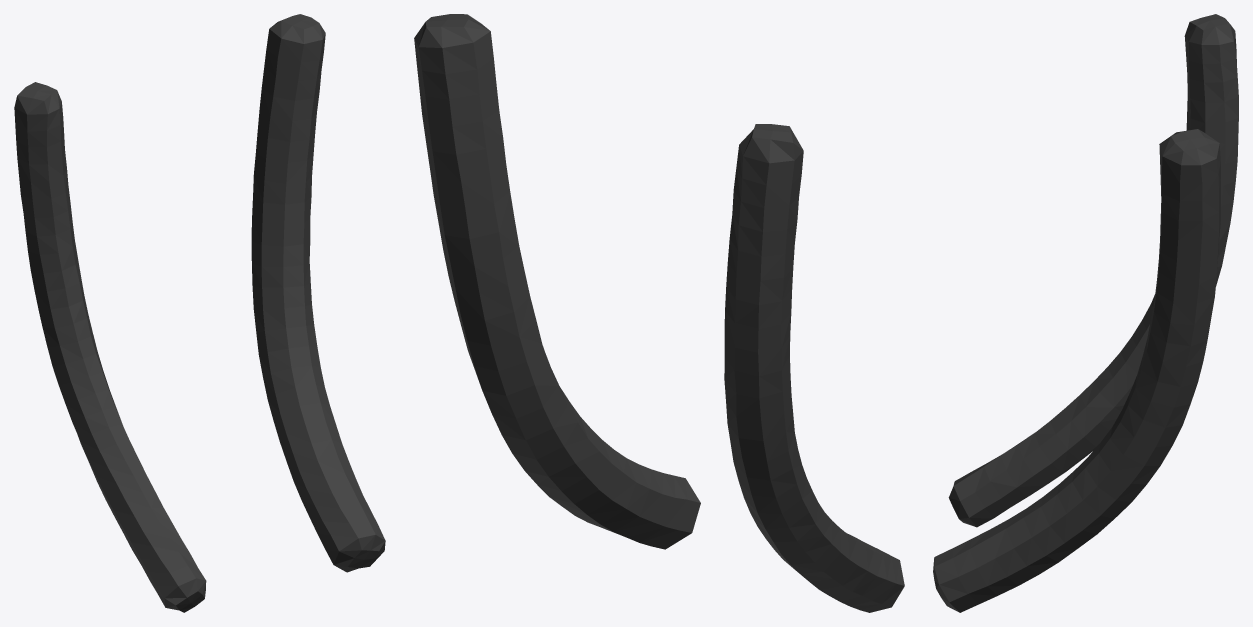
File: Axial_ligaments.glb
3 views of the same model, side by side, from view 1: azimuth 30°, elevation 25°; view 2: azimuth 150°, elevation 25°; view 3: azimuth 270°, elevation 25° (orthographic). The views are drawn at different scales.
Parts seen in each view (by area): view 1: Axial_ligaments; view 2: Axial_ligaments; view 3: Axial_ligaments.
Part boxes in pixels (x1,y1,x2,y2): Axial_ligaments: [14, 14, 385, 612]; Axial_ligaments: [414, 14, 904, 612]; Axial_ligaments: [933, 14, 1238, 612].
Size of the model in its own units: 6.59 by 9.92 by 5.48.
1 material, 1 textured.
